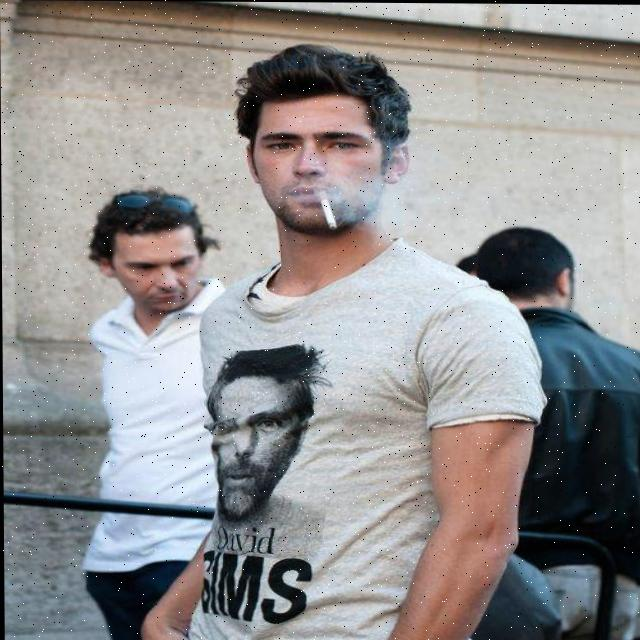cigarette: (320, 196, 339, 230)
